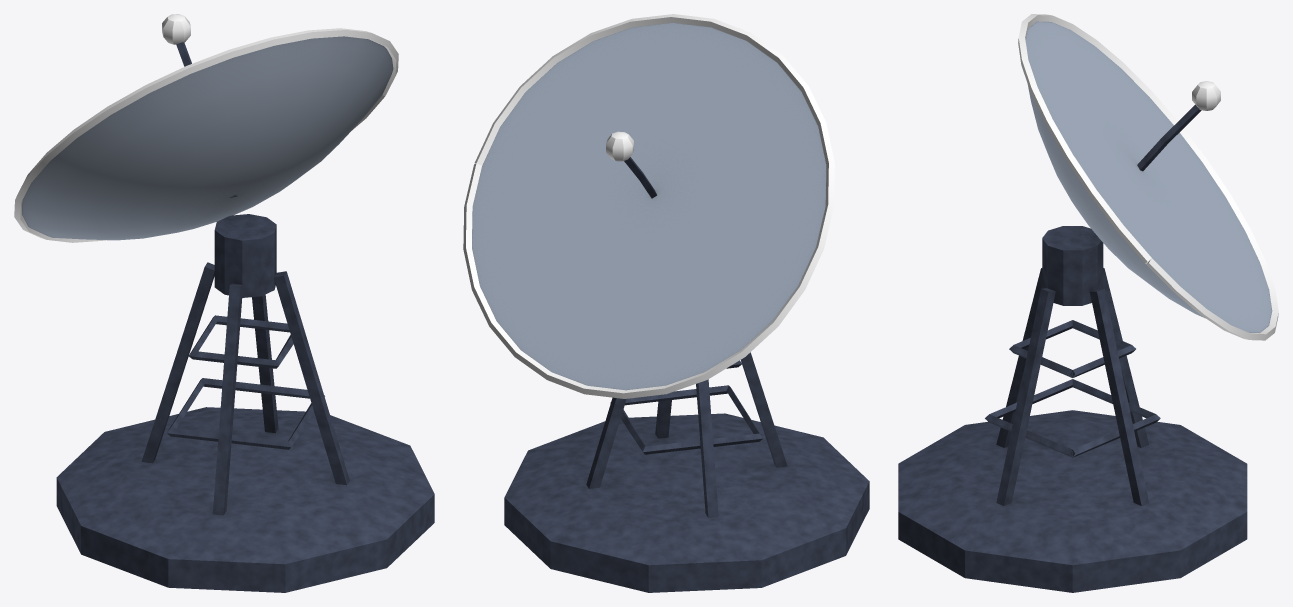
Rendered from uplink_dish.fbx.
3 views of the same model, side by side, from view 1: azimuth 30°, elevation 25°; view 2: azimuth 150°, elevation 25°; view 3: azimuth 270°, elevation 25° (orthographic). The views are drawn at different scales.
Visible parts, largest first — view 1: uplink_dish, uplink_dish_glow; view 2: uplink_dish, uplink_dish_glow; view 3: uplink_dish, uplink_dish_glow.
Part boxes in pixels (x1,y1,x2,y2): uplink_dish: [22, 36, 434, 592]; uplink_dish_glow: [14, 14, 398, 242]; uplink_dish: [472, 22, 869, 592]; uplink_dish_glow: [463, 14, 834, 398]; uplink_dish: [898, 21, 1272, 592]; uplink_dish_glow: [1018, 14, 1278, 340].
Bounding box in the file's own units: 528 × 690 × 498.
1 material, 1 textured.
